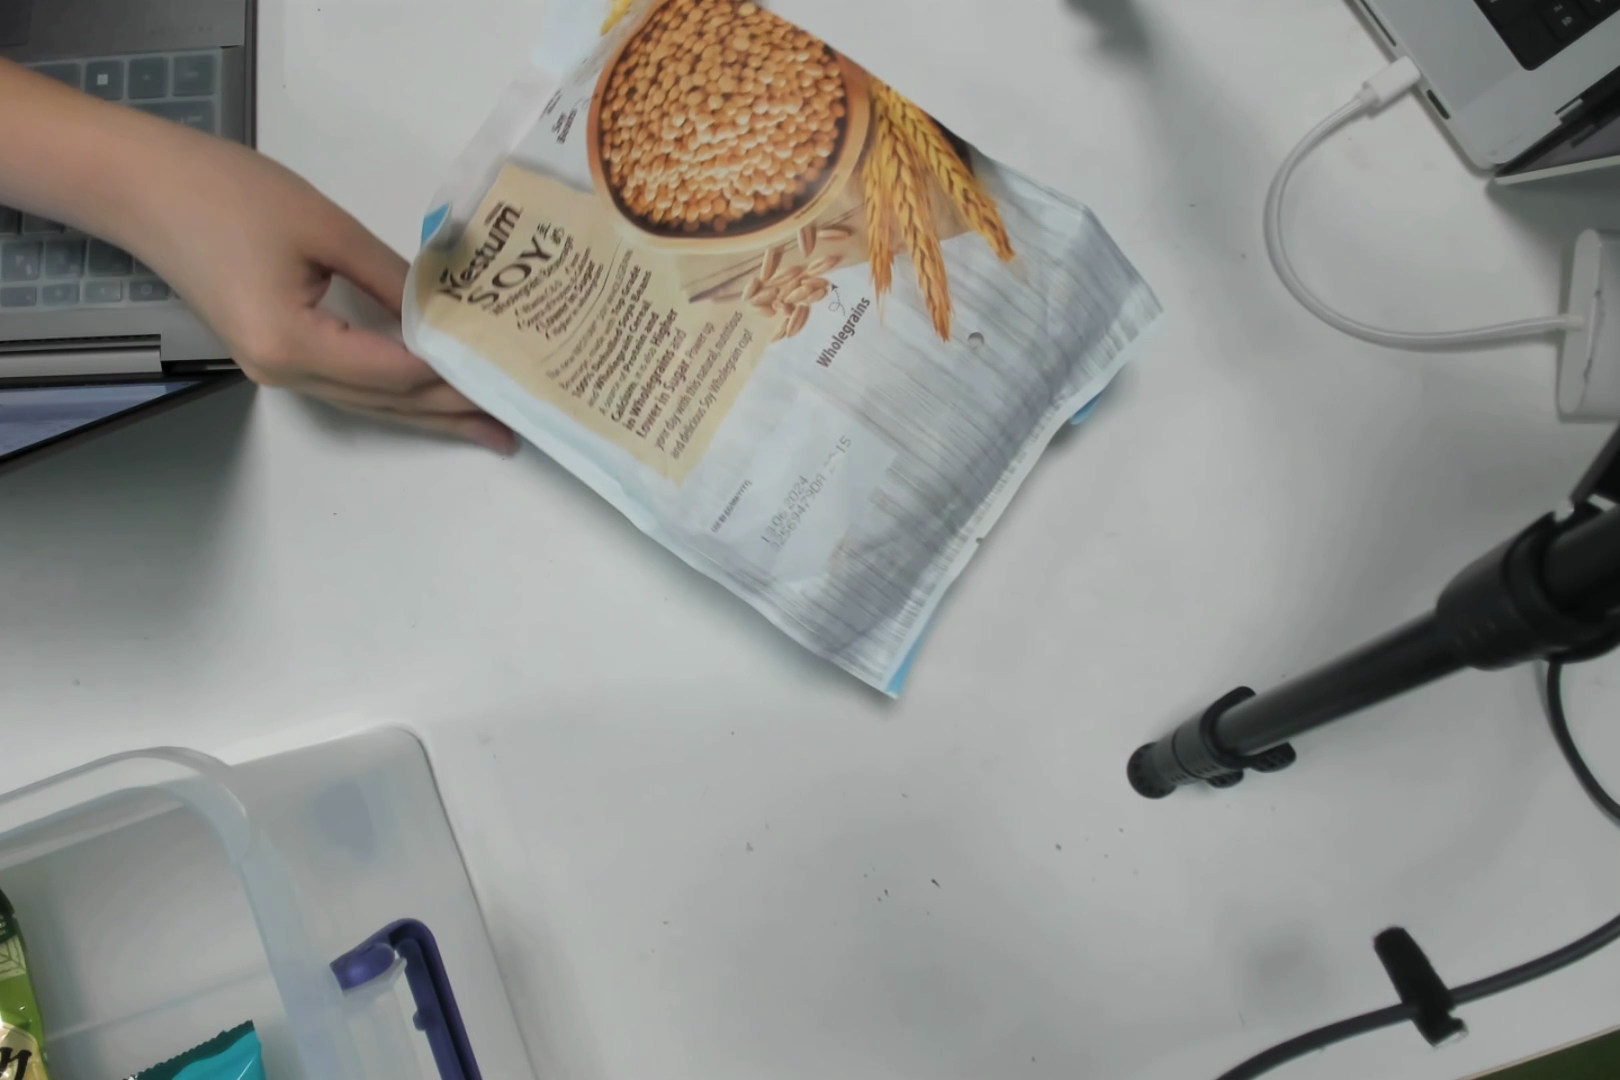e: (444, 8, 1032, 464)
